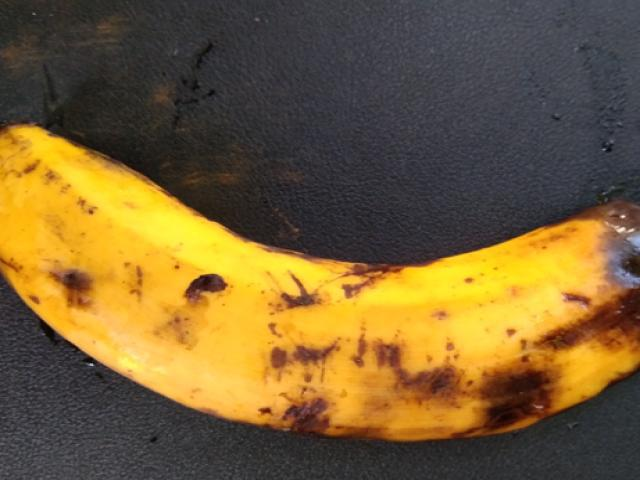overripe: (5, 115, 556, 458)
rotten: (412, 177, 639, 415)
